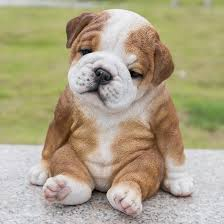Bulldog: (28, 1, 203, 216)
